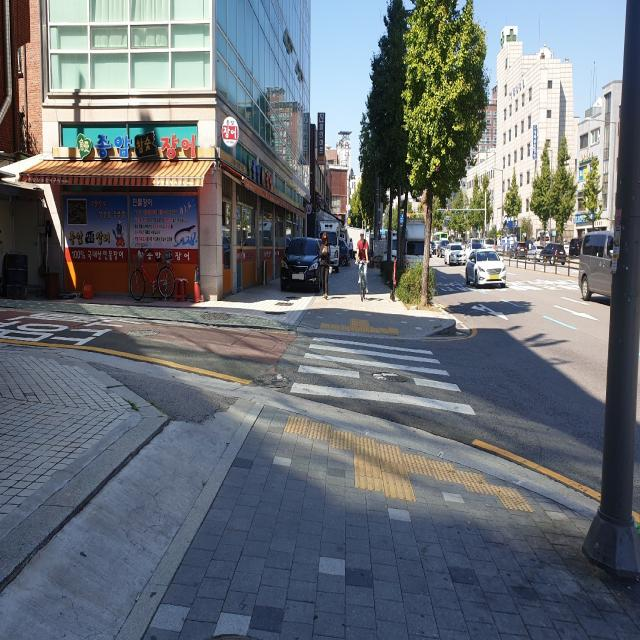횡단보도: (290, 336, 478, 418)
